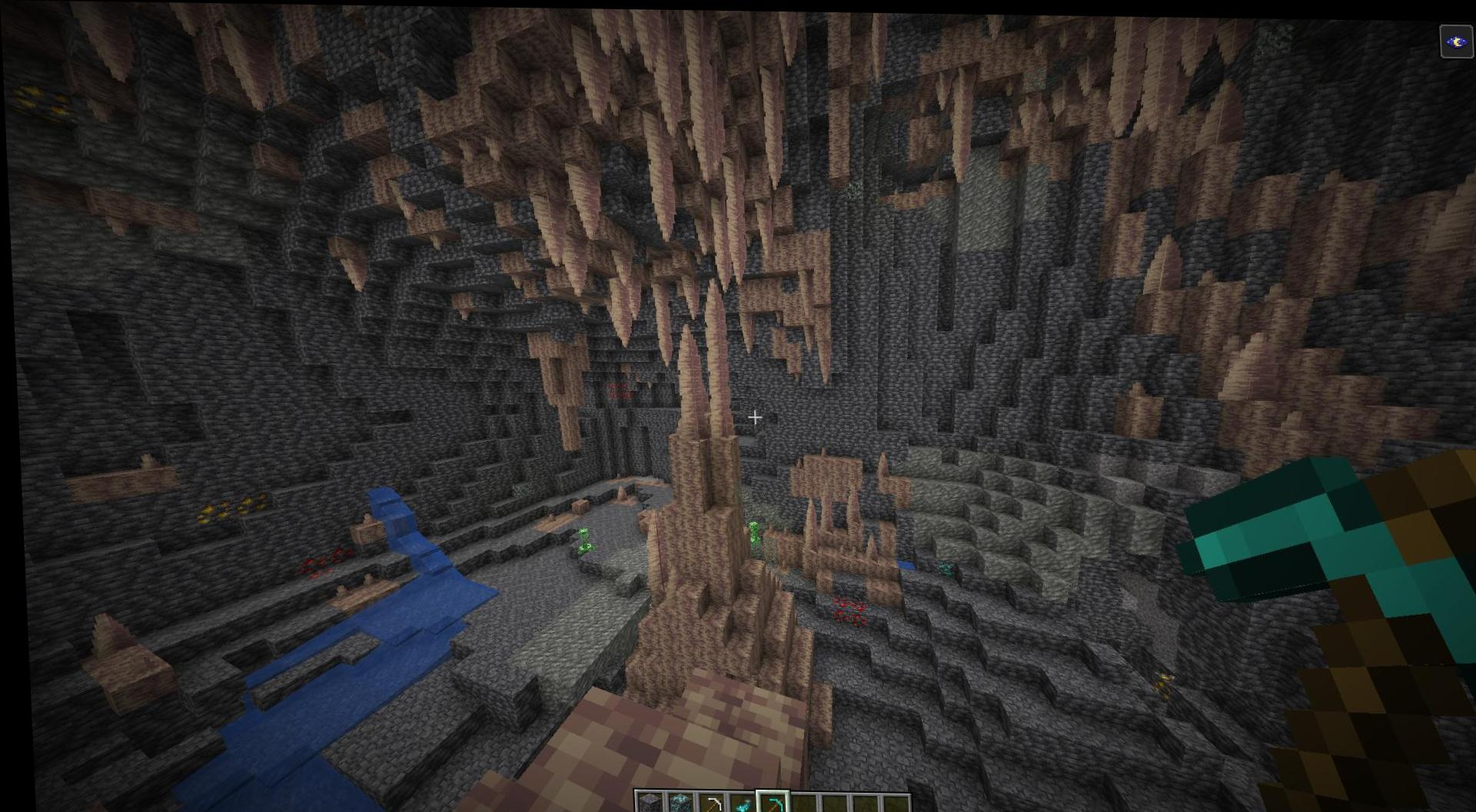diamond ore: (933, 558, 951, 575)
gold ore: (3, 75, 80, 126), (186, 499, 228, 523), (228, 492, 266, 515), (1147, 666, 1174, 695)
redstone ore: (297, 544, 339, 580), (602, 377, 631, 400), (844, 596, 865, 627), (828, 592, 846, 622)
